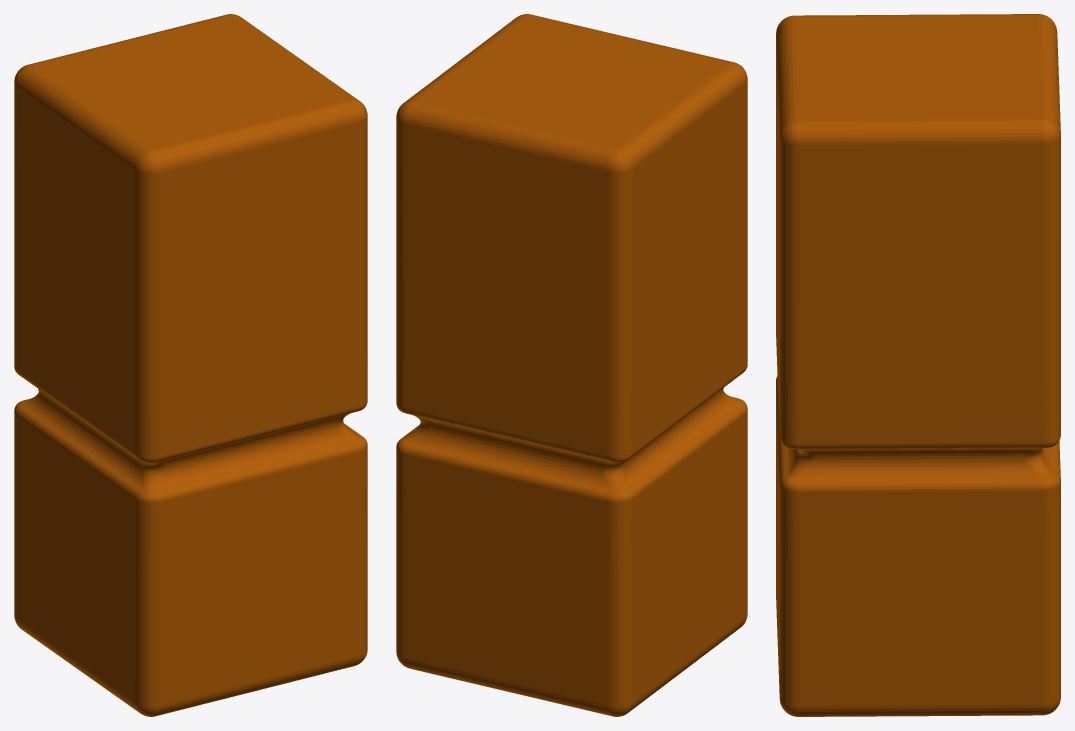
File: grand-carree-jaune.obj
The picture shows the model from 3 angles, left to right: view 1: azimuth 30°, elevation 25°; view 2: azimuth 150°, elevation 25°; view 3: azimuth 270°, elevation 25°; orthographic projection. The views are drawn at different scales.
Parts seen in each view (by area): view 1: quarto-pieces.009; view 2: quarto-pieces.009; view 3: quarto-pieces.009.
Part boxes in pixels (<box>): quarto-pieces.009: <box>14,14,367,716</box>; quarto-pieces.009: <box>396,14,747,716</box>; quarto-pieces.009: <box>776,14,1060,716</box>.
Bounding box in the file's own units: 30.39 × 70 × 30.39.
